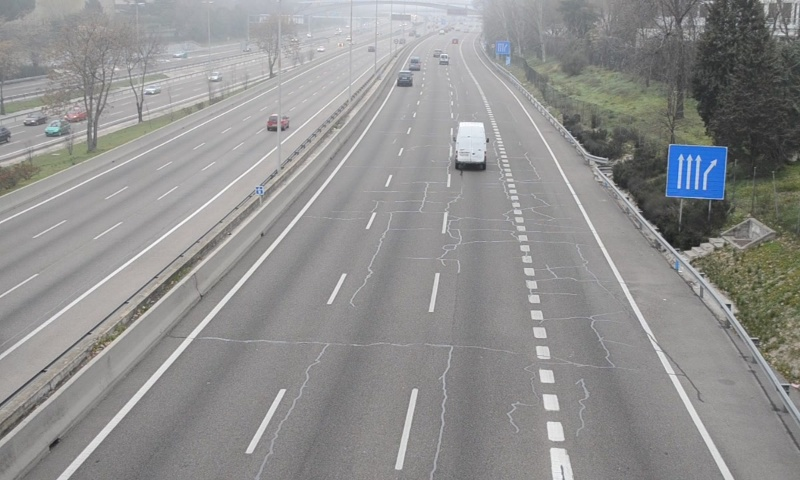car: (398, 70, 412, 86)
van: (454, 121, 488, 169)
